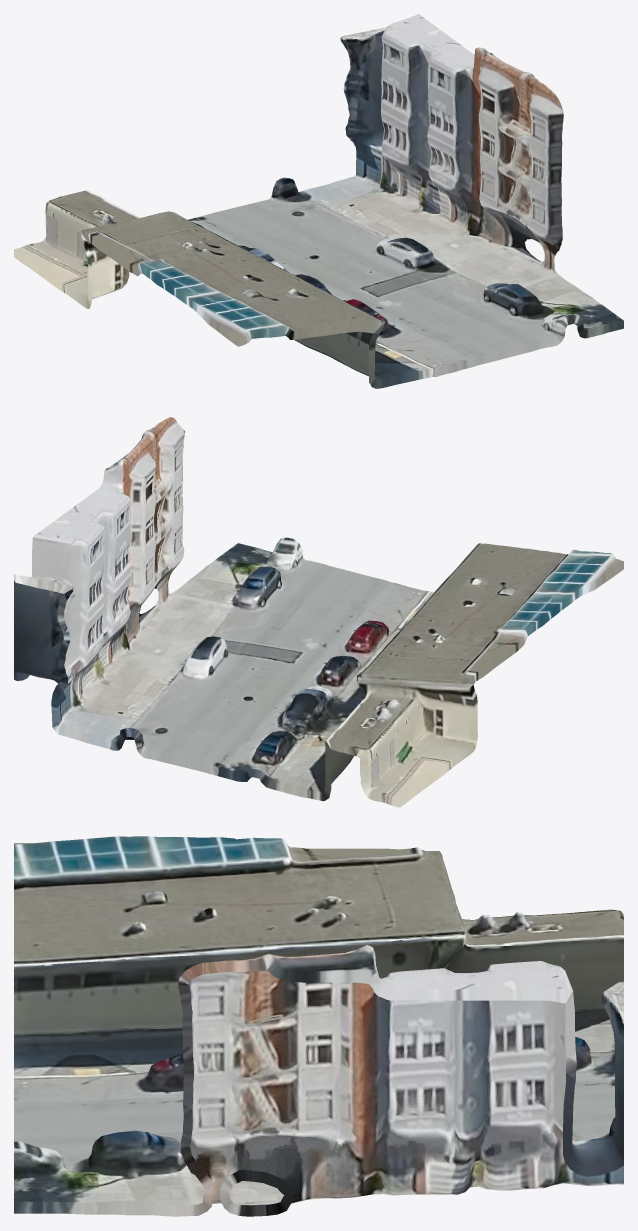
The model's file is z20-167735-405193-h0-yup-uvflip-v3-world.glb.
The picture shows the model from 3 angles, top to bottom: view 1: azimuth 30°, elevation 25°; view 2: azimuth 150°, elevation 25°; view 3: azimuth 270°, elevation 25°; orthographic projection. The views are drawn at different scales.
Bounding box in the file's own units: 30.16 × 15.08 × 30.32.
Materials: 1 (1 with a texture image).
